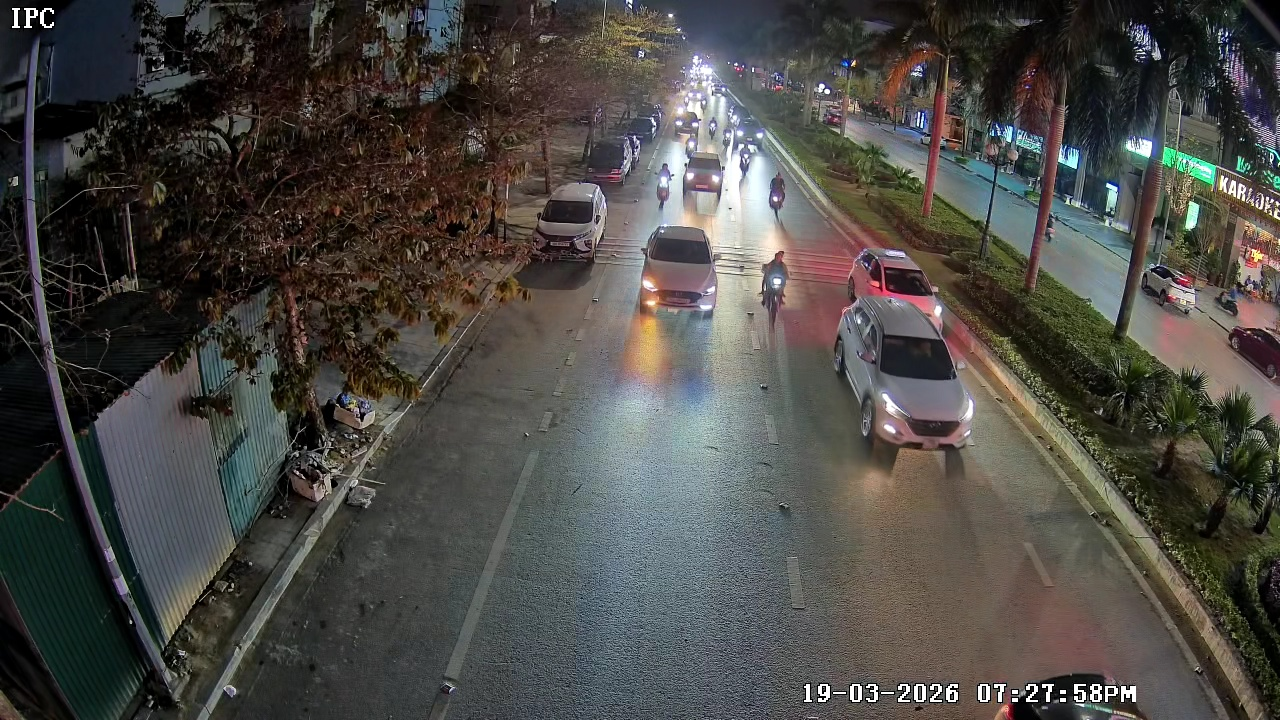car: (832, 252, 974, 457), (636, 223, 717, 326), (533, 180, 610, 263), (684, 149, 730, 199), (673, 109, 703, 139)
motorbike: (754, 247, 796, 328), (767, 168, 789, 226), (652, 161, 676, 211), (738, 141, 755, 179)
